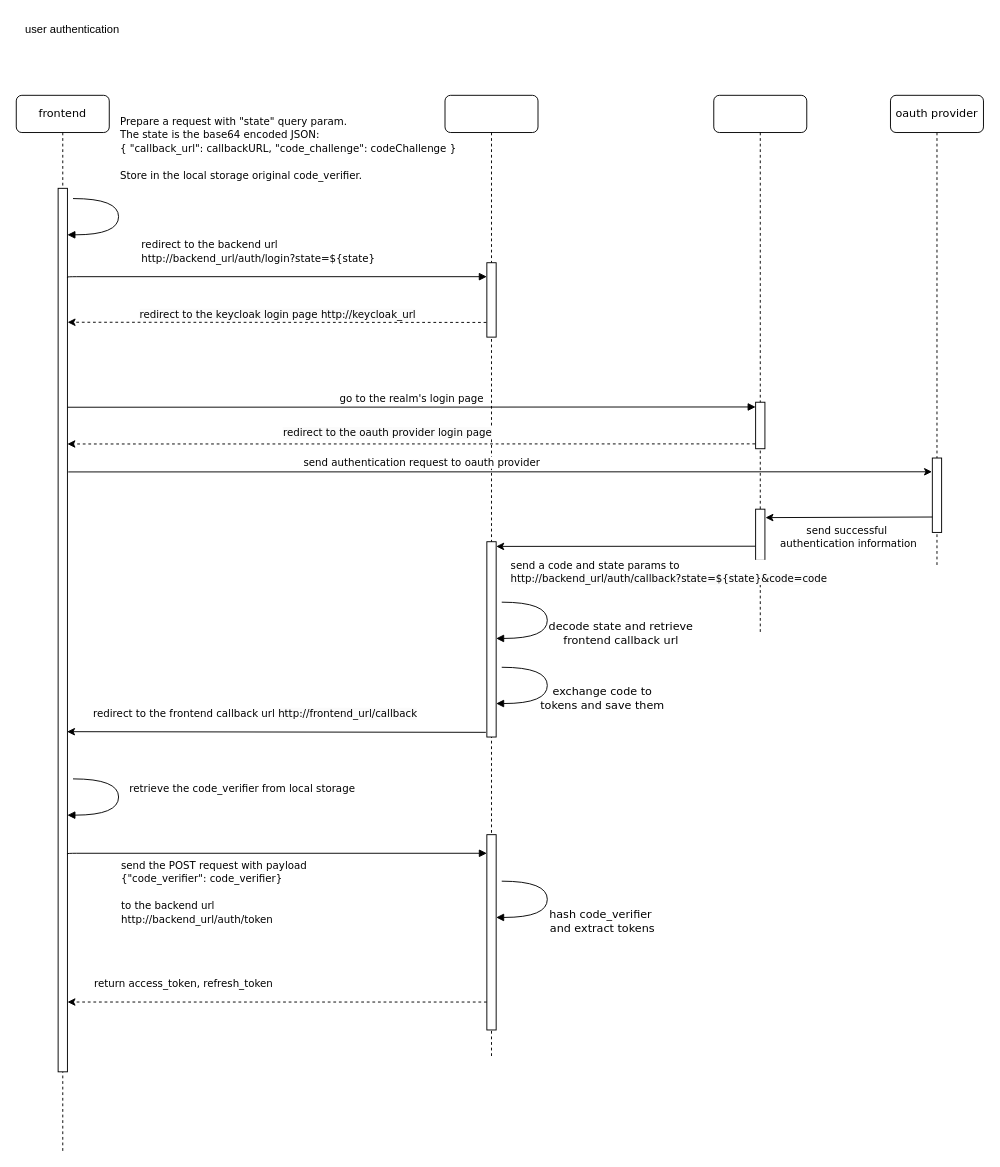
This 1000x1167 diagram has some shape labels left out. Each missing label, with the centre of its shape:
"backend" goes at point 491,576.
"keycloak" goes at point 760,364.
